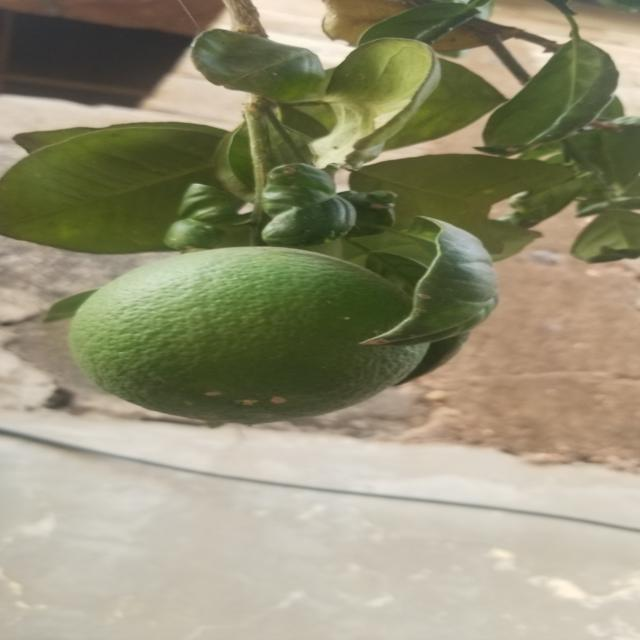Unripe: (52, 238, 454, 452)
